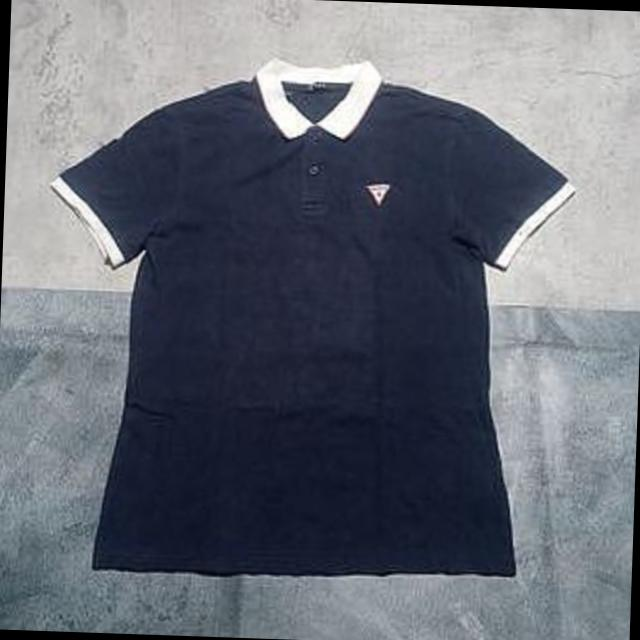T_SHIRT: (25, 49, 608, 602)
